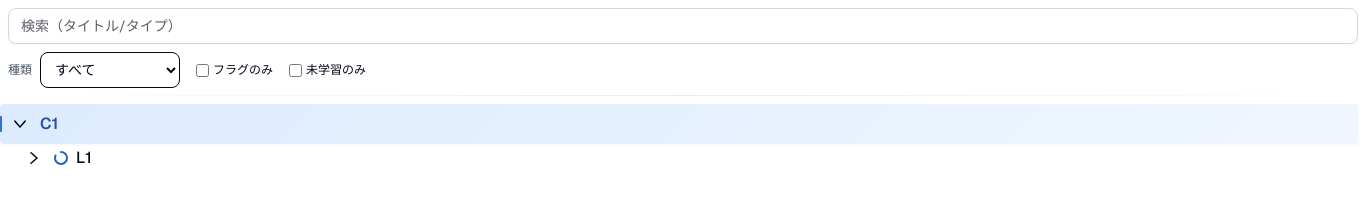
Scenario: NavTree - リングは理解度を%表示 › level=4 のカードが 80% で表示される
Check: the list item "L1" is shown, box [22,146,92,170]
Step 1. Click the button named "展開" → x=34, y=158, box [22,146,46,170]
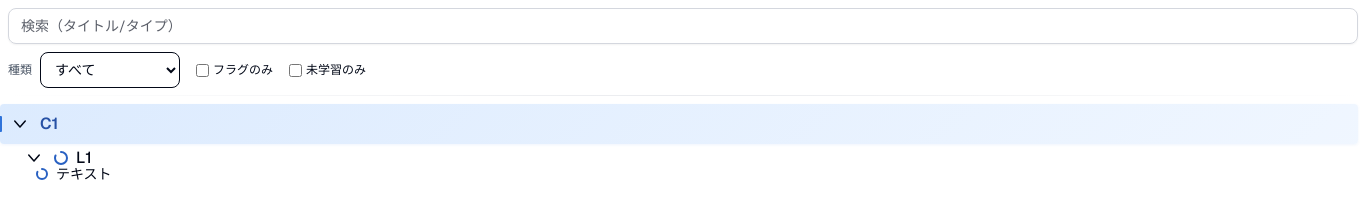
Check: the list item "テキスト" is shown, box [36,165,112,183]
Check: the picture named "進捗 80%" is shown, box [36,168,48,180]
